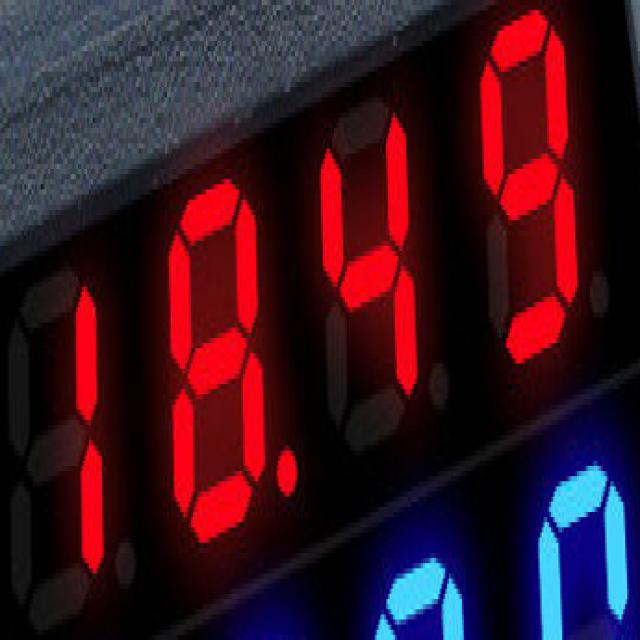.: (277, 443, 299, 503)
1: (41, 243, 148, 584)
4: (306, 114, 458, 471)
8: (160, 184, 277, 562)
9: (468, 8, 604, 395)
screen: (17, 0, 640, 610)
